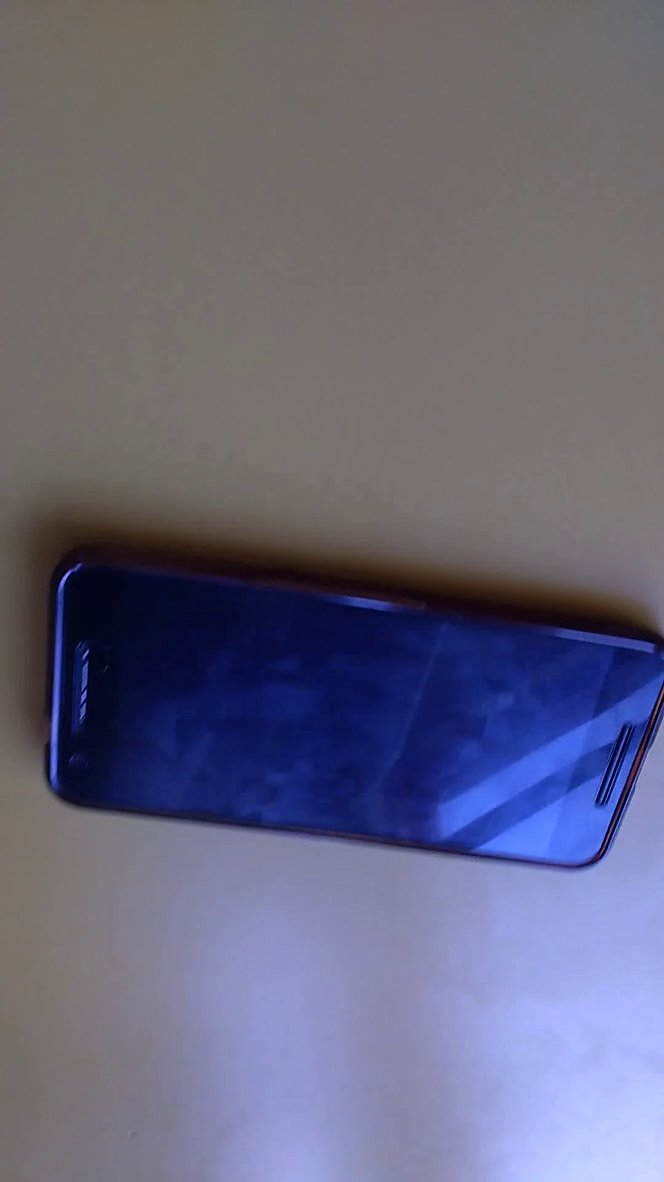phone: (34, 524, 664, 884)
